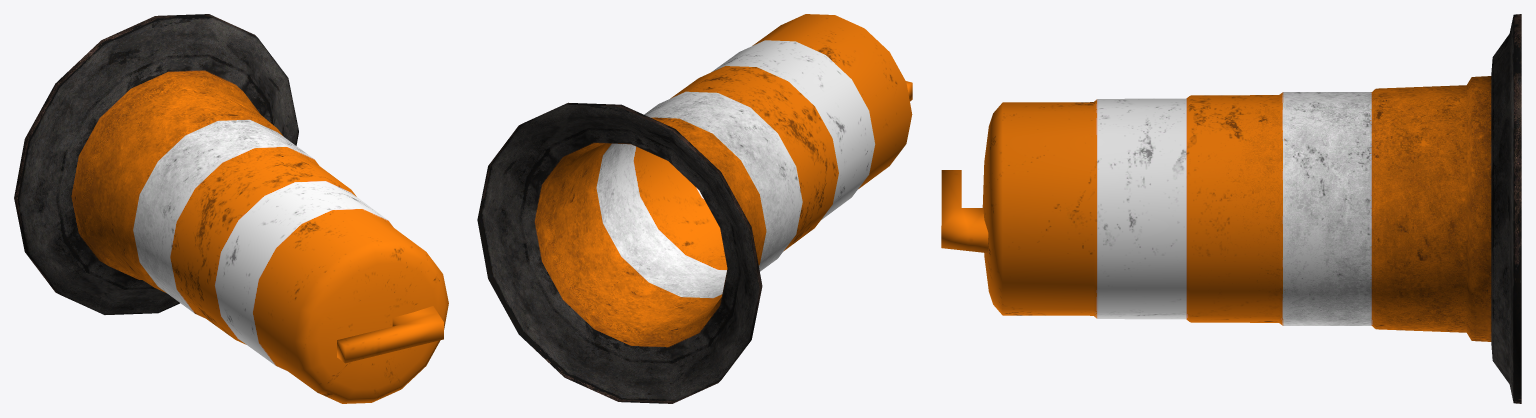
File: Traffic_Barrel.obj
The picture shows the model from 3 angles, left to right: view 1: azimuth 30°, elevation 25°; view 2: azimuth 150°, elevation 25°; view 3: azimuth 270°, elevation 25°; orthographic projection. The views are drawn at different scales.
Visible parts, largest first — view 1: Traffic_Barrel_Base_low; view 2: Traffic_Barrel_Base_low; view 3: Traffic_Barrel_Base_low.
Boxes of the visible parts, x1,y1,x2,y2 form: Traffic_Barrel_Base_low: (14, 14, 448, 403); Traffic_Barrel_Base_low: (477, 14, 912, 403); Traffic_Barrel_Base_low: (941, 14, 1521, 403).
Size of the model in its own units: 0.9094 by 0.9094 by 1.35.
1 material, 1 textured.
